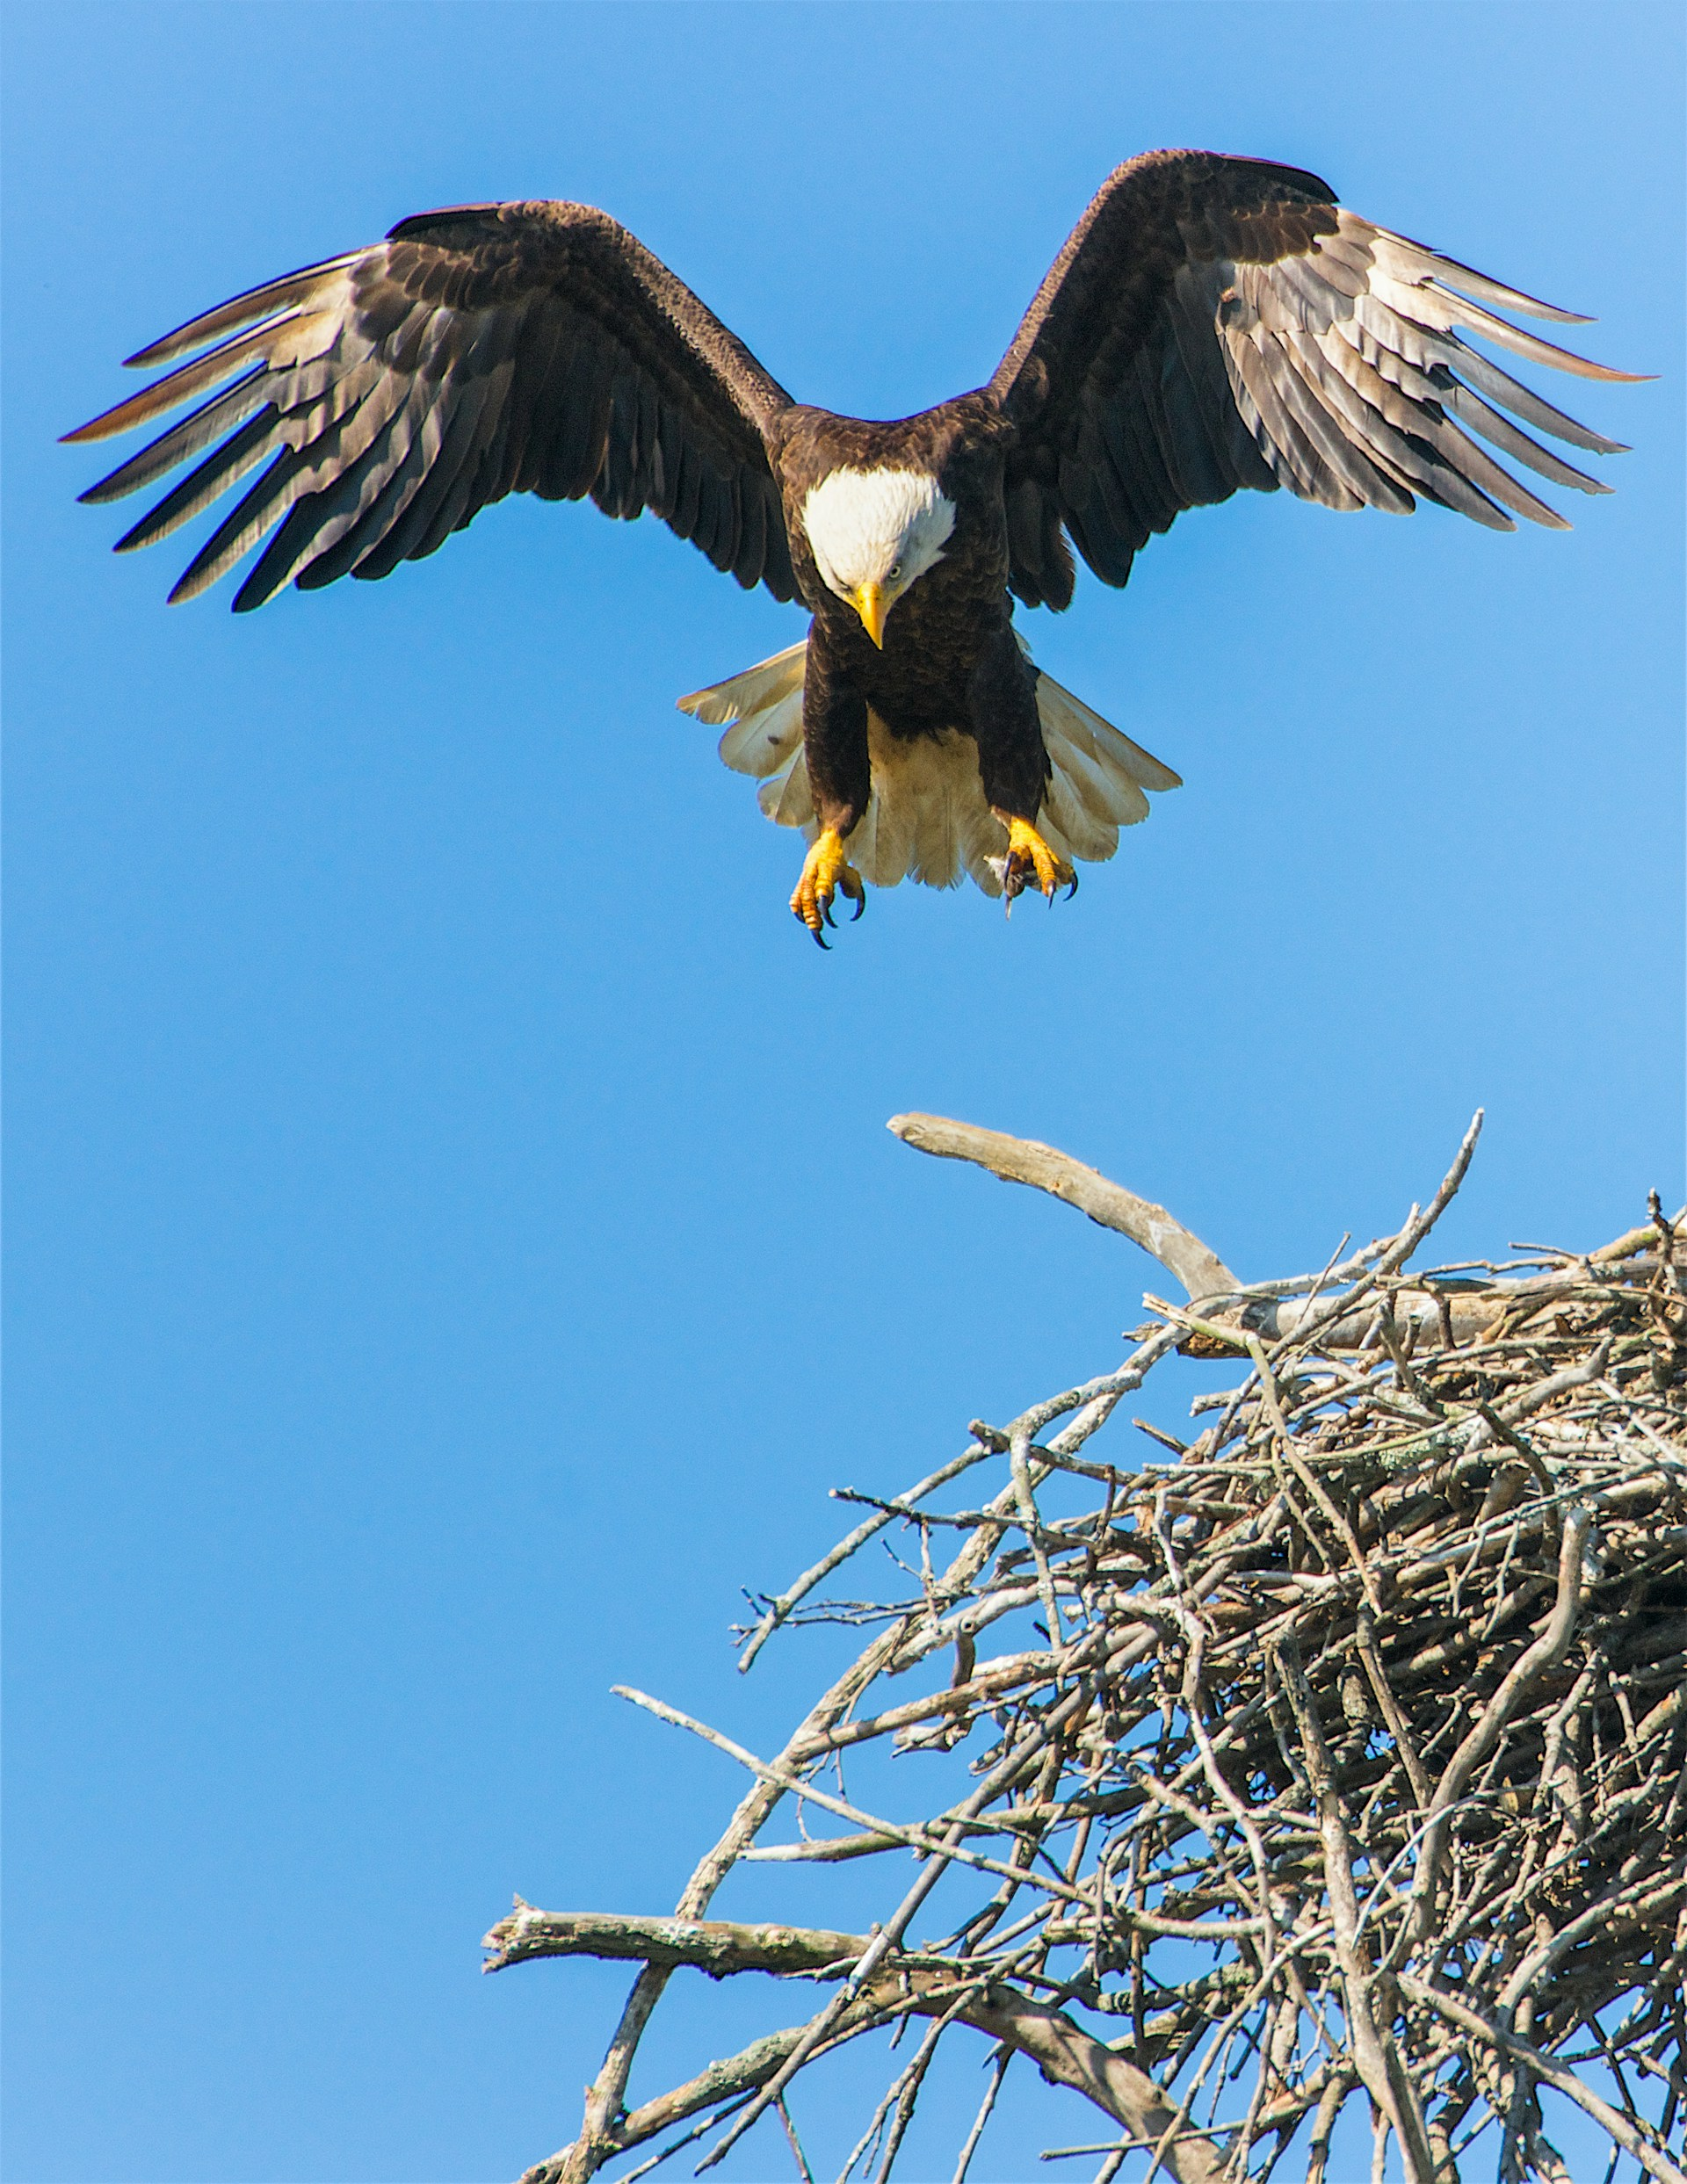eagle: (58, 136, 1666, 1011)
